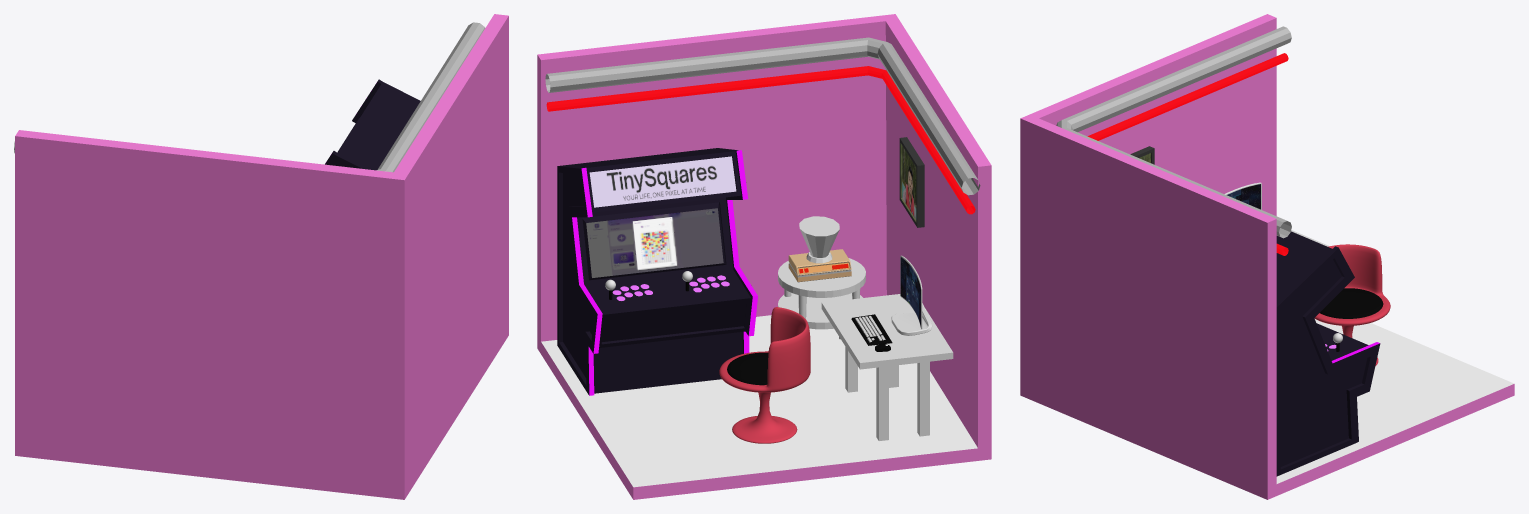
Rendered from roomv3.glb.
3 renders of one model, left to right at view 1: azimuth 30°, elevation 25°; view 2: azimuth 150°, elevation 25°; view 3: azimuth 270°, elevation 25°, orthographic. The views are drawn at different scales.
Parts seen in each view (by area): view 1: Room, Arcade, Pipes; view 2: Room, Arcade, Pipes, Chair base, Desk, Cube, Cylinder.001, Plane.038, Circle.001, Chair cushion, Cylinder.002, Monitor (+3 smaller); view 3: Room, Arcade, Pipes, Chair base, Chair cushion, Monitor.
Boxes of the visible parts, x1,y1,x2,y2 form: Room: (15,14,508,499); Arcade: (325,79,420,170); Pipes: (14,22,485,172); Room: (537,14,991,499); Arcade: (557,148,757,395); Pipes: (545,37,980,214); Chair base: (719,307,810,443); Desk: (821,294,953,369); Cube: (899,137,924,227); Cylinder.001: (778,258,865,297); Plane.038: (788,249,851,282); Circle.001: (799,216,839,257); Chair cushion: (727,352,768,385); Cylinder.002: (778,293,862,329); Monitor: (900,255,922,329); Room: (1020,14,1514,499); Arcade: (1276,231,1380,476); Pipes: (1056,26,1291,255); Chair base: (1314,244,1390,365); Chair cushion: (1320,288,1383,318); Monitor: (1224,182,1261,209).
Size of what is drawn, in the model's own units: 11.31 by 7 by 11.31.
Materials: 28 (4 with a texture image).
